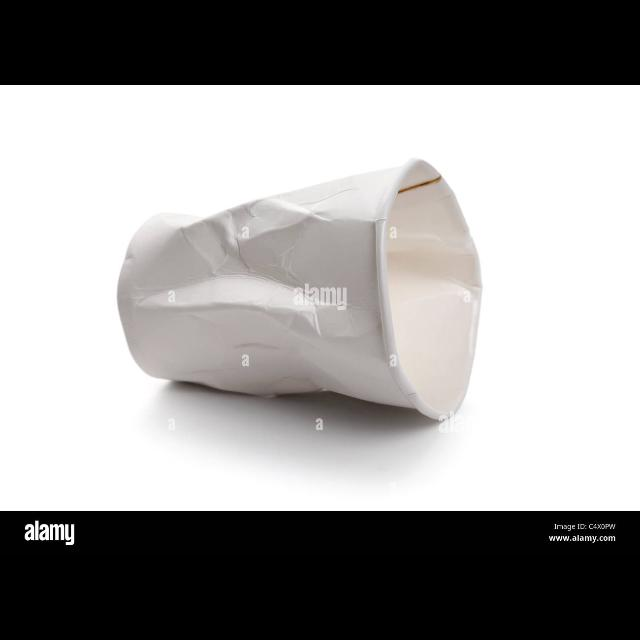trash: (114, 156, 482, 426)
